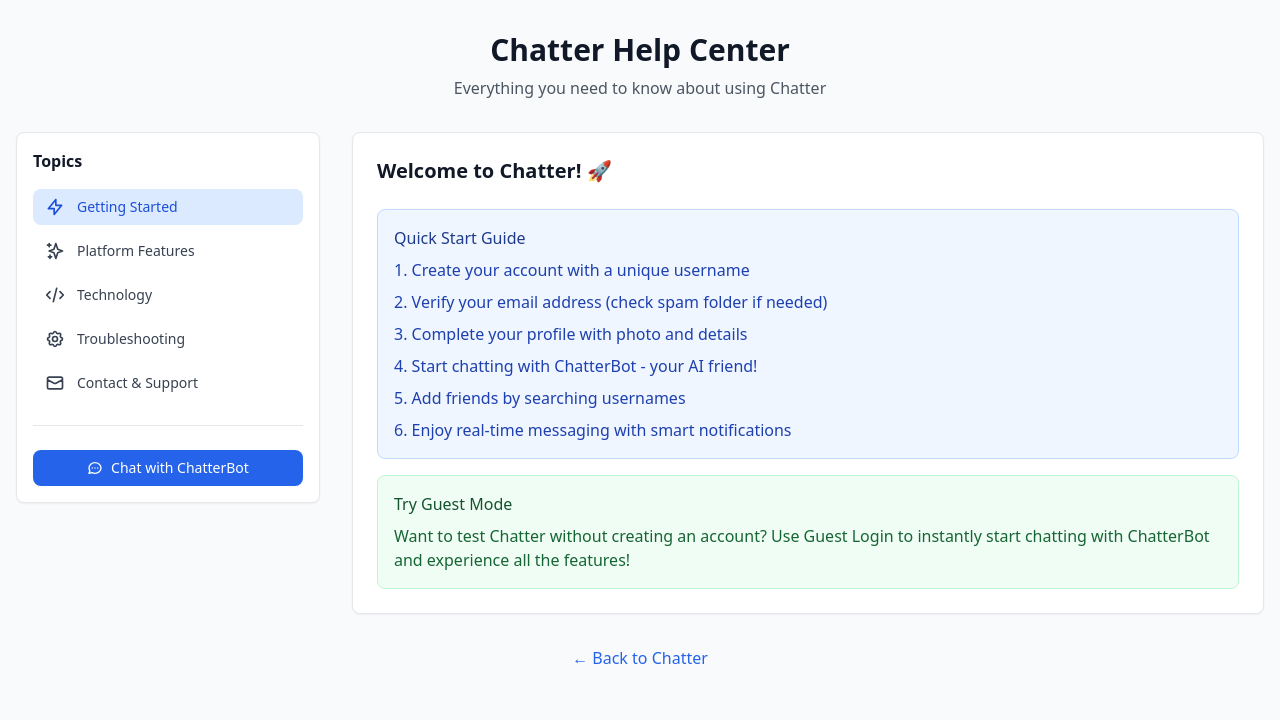
Test: HelpPage Component › Section Navigation › should switch to platform features section when clicked
Step 1. Click the button "Platform Features" → (168, 251), box [33,233,303,269]
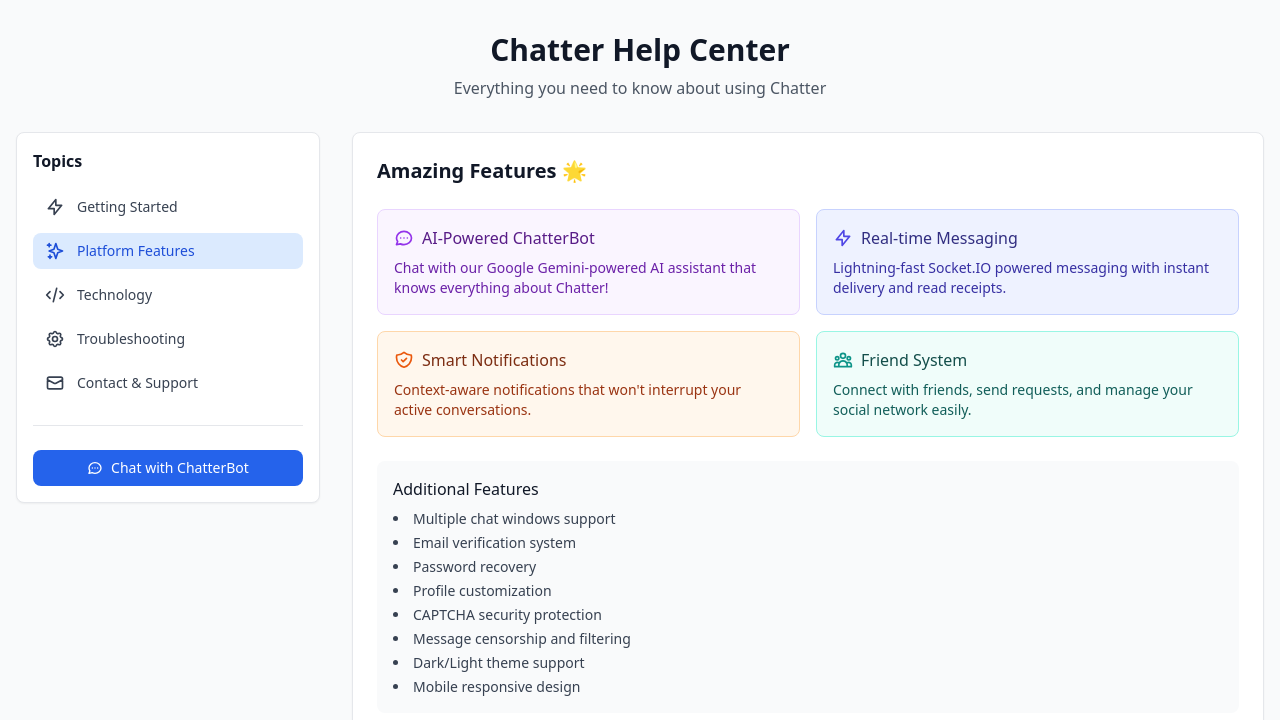
Now the heading "Amazing Features 🌟" is shown, box [377,157,587,184]
Now the heading "AI-Powered ChatterBot" is shown, box [422,226,595,250]
